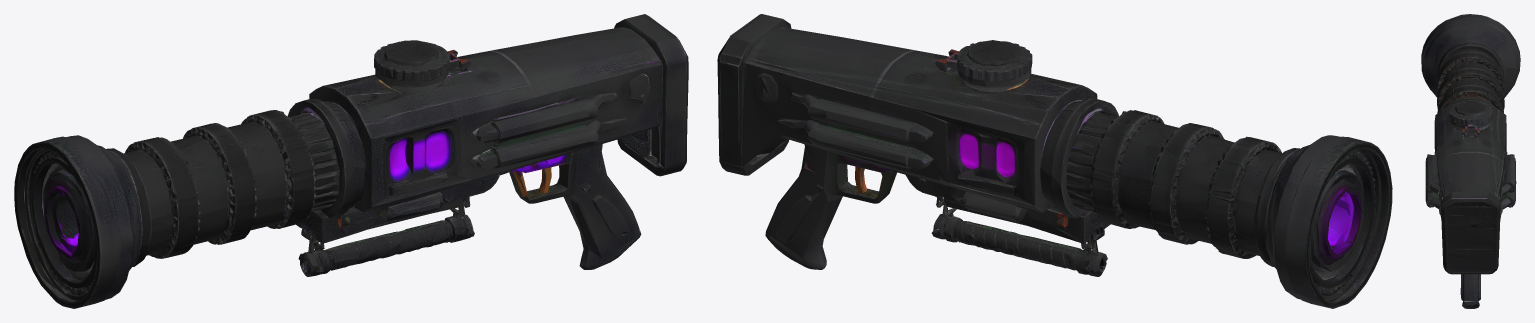
The picture shows the model from 3 angles, left to right: view 1: azimuth 30°, elevation 25°; view 2: azimuth 150°, elevation 25°; view 3: azimuth 270°, elevation 25°; orthographic projection. The views are drawn at different scales.
Bounding box in the file's own units: 1.9 × 0.7769 × 0.4669.
Materials: 1 (1 with a texture image).
